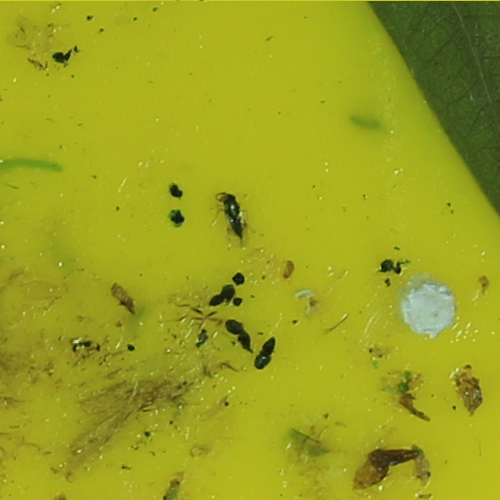Psyllaephagus: (219, 193, 247, 240)
